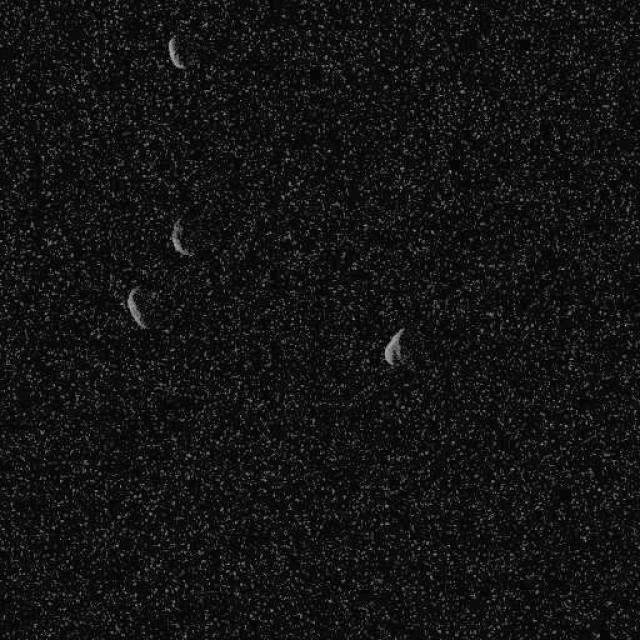D2: (124, 285, 148, 330), (168, 216, 192, 258), (383, 327, 405, 368), (166, 35, 186, 70)
